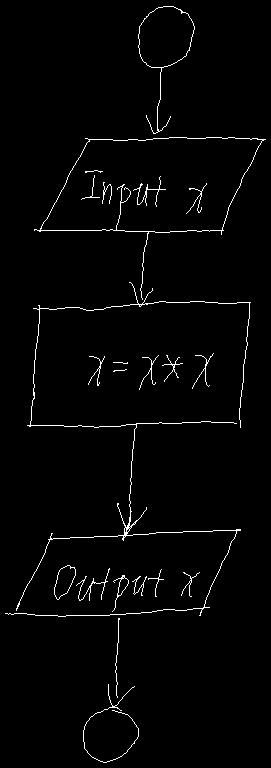arrow: (117, 424, 146, 540), (108, 618, 134, 706), (129, 231, 152, 306), (146, 68, 170, 133)
connection: (138, 6, 194, 67), (83, 707, 138, 762)
data: (34, 137, 265, 234), (5, 529, 240, 616)
process: (27, 301, 250, 427)
text: (81, 170, 206, 229), (54, 565, 199, 611), (88, 353, 213, 389)
